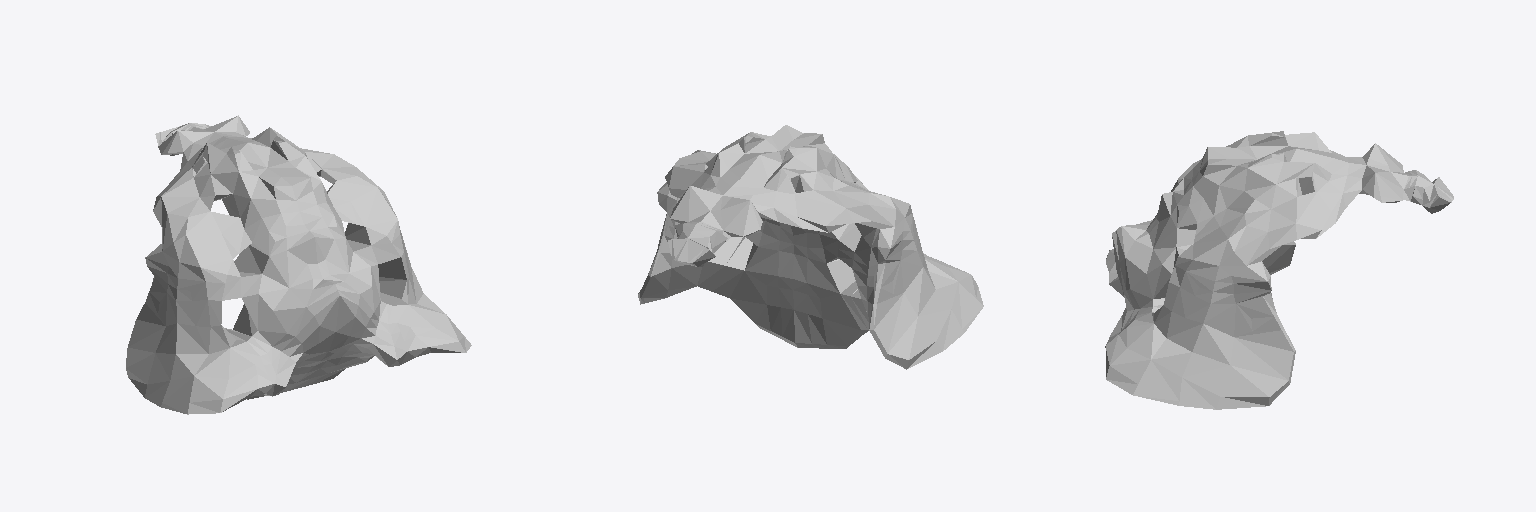
Rendered from Female_Skeletal_Sacrum.obj.
The picture shows the model from 3 angles: view 1: azimuth 30°, elevation 25°; view 2: azimuth 150°, elevation 25°; view 3: azimuth 270°, elevation 25°; orthographic projection.
Parts seen in each view (by area): view 1: Female_Skeletal_Sacrum; view 2: Female_Skeletal_Sacrum; view 3: Female_Skeletal_Sacrum.
Boxes of the visible parts, box(x1,y1,x2,y2) form: Female_Skeletal_Sacrum: box(126, 115, 471, 414); Female_Skeletal_Sacrum: box(638, 125, 983, 369); Female_Skeletal_Sacrum: box(1105, 131, 1453, 409).
Size of the model in its own units: 1.09 by 0.8148 by 1.13.